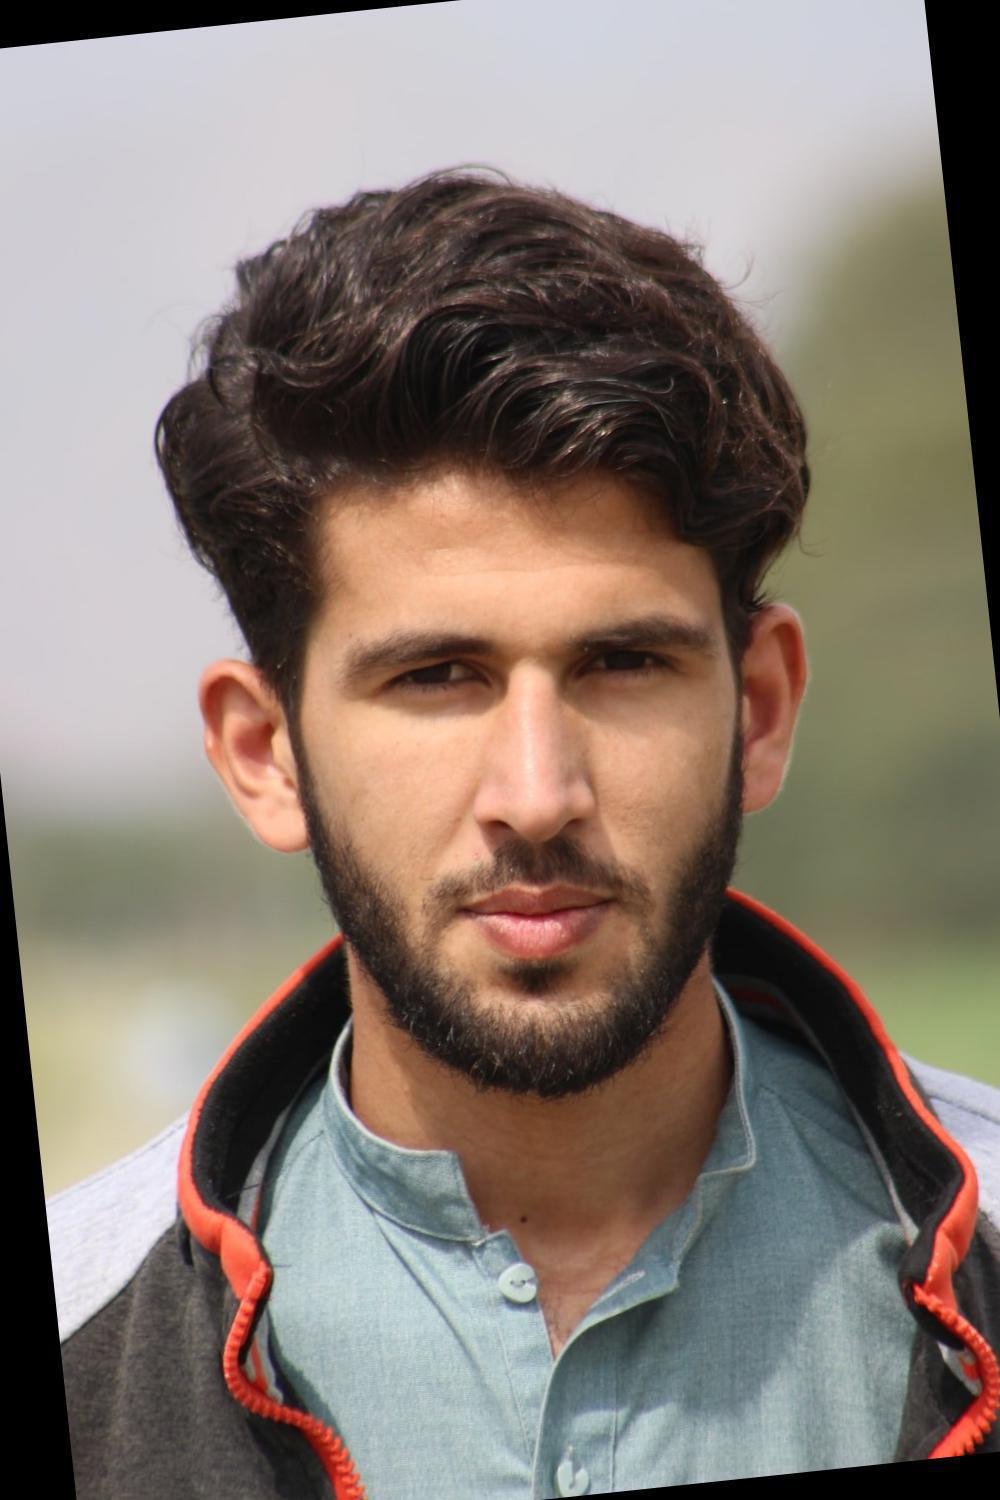Sober: (298, 467, 715, 1062)
